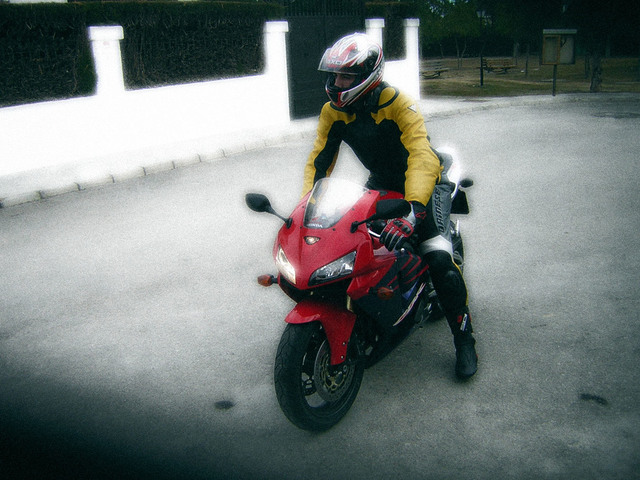helmet: (322, 36, 387, 108)
